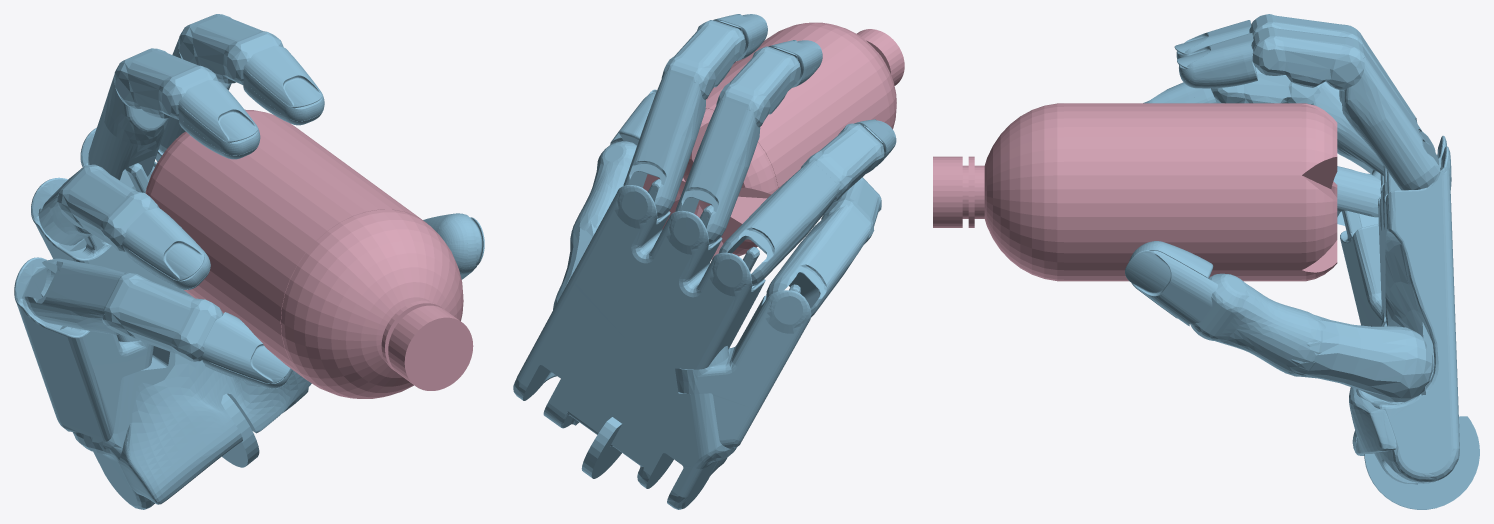
3 renders of one model, left to right at view 1: azimuth 30°, elevation 25°; view 2: azimuth 150°, elevation 25°; view 3: azimuth 270°, elevation 25°, orthographic. The views are drawn at different scales.
Parts seen in each view (by area): view 1: world, water_bottle.stl; view 2: world, water_bottle.stl; view 3: world, water_bottle.stl.
Part boxes in pixels (bbox=[...]): world: bbox=[14, 14, 484, 509]; water_bottle.stl: bbox=[145, 109, 473, 398]; world: bbox=[513, 14, 896, 509]; water_bottle.stl: bbox=[643, 22, 904, 259]; world: bbox=[1125, 14, 1479, 509]; water_bottle.stl: bbox=[933, 103, 1337, 281].
Size of the model in its own units: 0.1217 by 0.175 by 0.1846.
